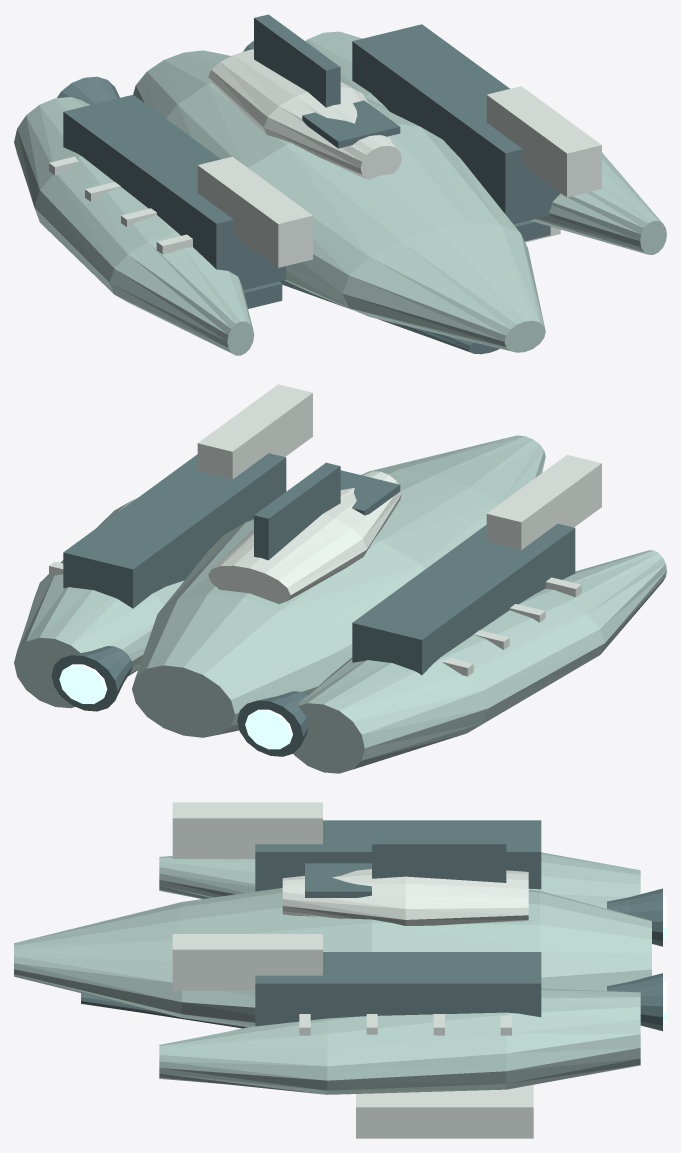
The picture shows the model from 3 angles, top to bottom: view 1: azimuth 30°, elevation 25°; view 2: azimuth 150°, elevation 25°; view 3: azimuth 270°, elevation 25°; orthographic projection. The views are drawn at different scales.
Bounding box in the file's own units: 14.19 × 5.81 × 17.36.
